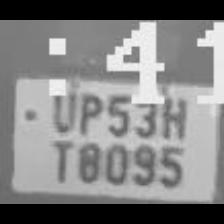0: (101, 140, 125, 186)
3: (130, 92, 156, 154)
5: (101, 78, 133, 136), (152, 128, 180, 184)
8: (72, 134, 100, 186)
9: (128, 136, 156, 184)
H: (157, 92, 189, 140)
P: (68, 82, 98, 132)
T: (46, 140, 74, 182)
U: (42, 90, 74, 138)
